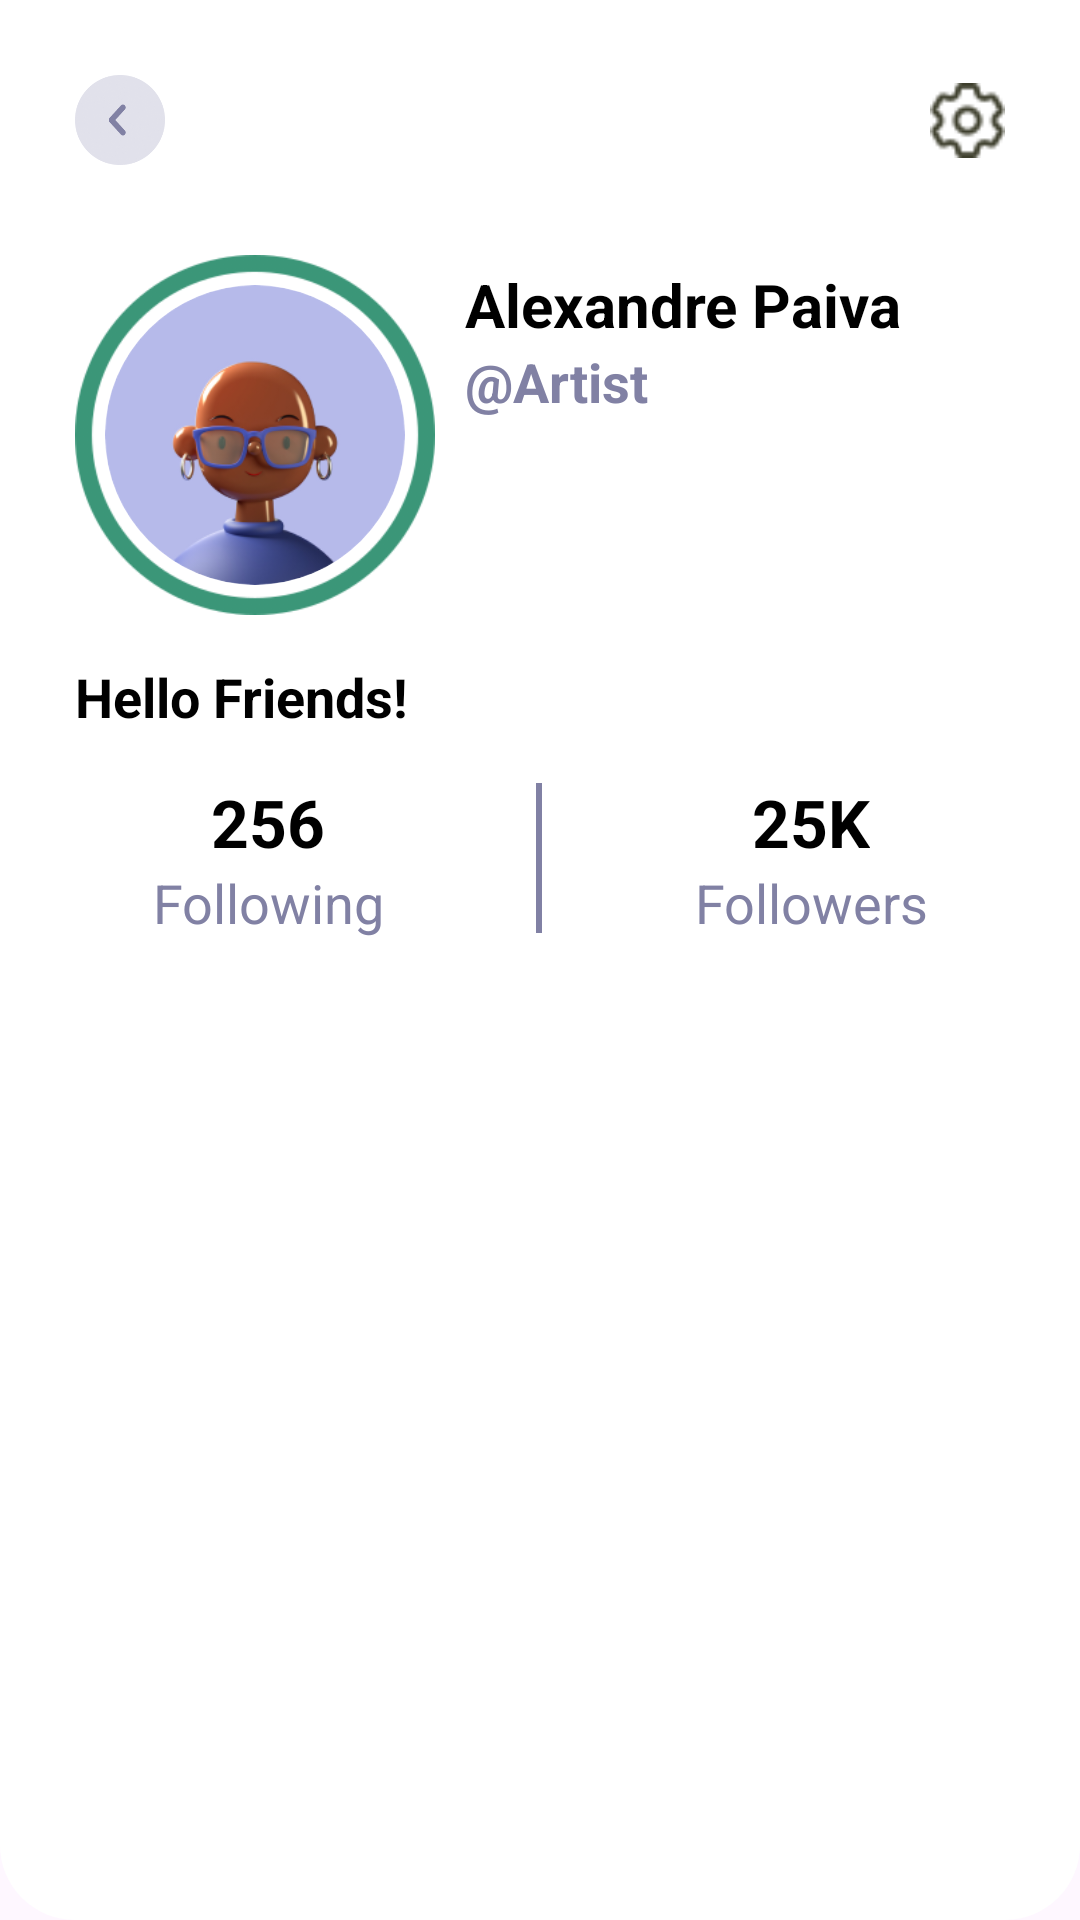

Screen size 1080w x 1920h. Icon name, then its box in pixels as (x1,y1,x2,y2):
back: (75,75,165,165)
setting: (930,83,1005,158)
